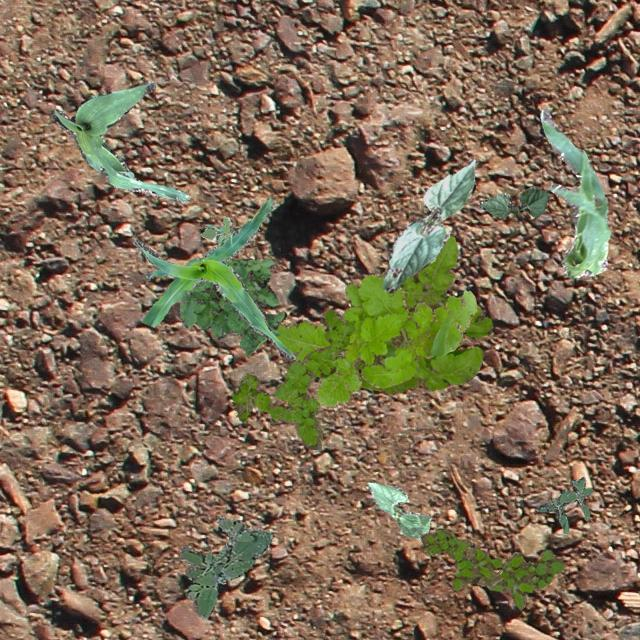crop: (132, 195, 294, 358), (50, 80, 188, 202), (382, 158, 476, 292), (538, 108, 610, 278), (366, 482, 430, 538), (478, 184, 548, 217)
weed: (274, 274, 476, 406), (356, 234, 492, 392), (232, 308, 354, 448), (418, 528, 562, 608), (178, 258, 286, 354), (178, 514, 272, 618), (538, 476, 592, 532), (200, 216, 234, 242)
